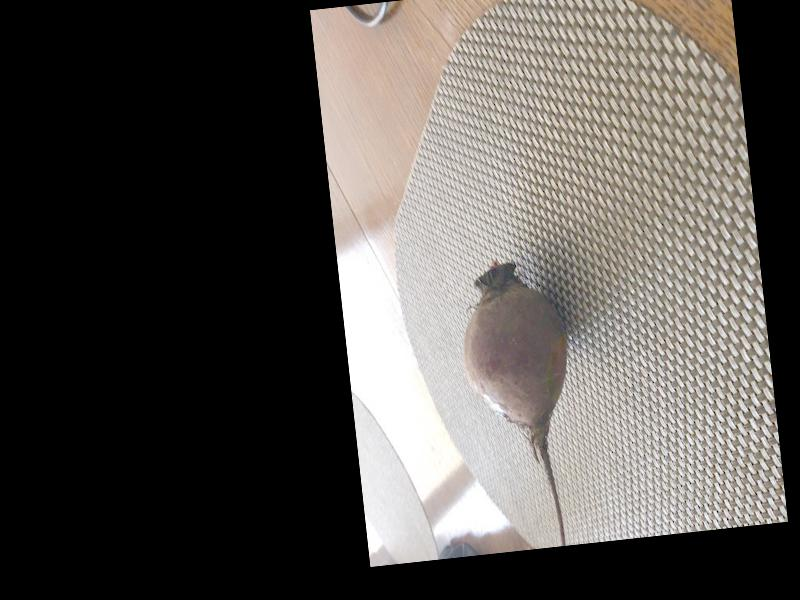Beet: (454, 257, 586, 551)
